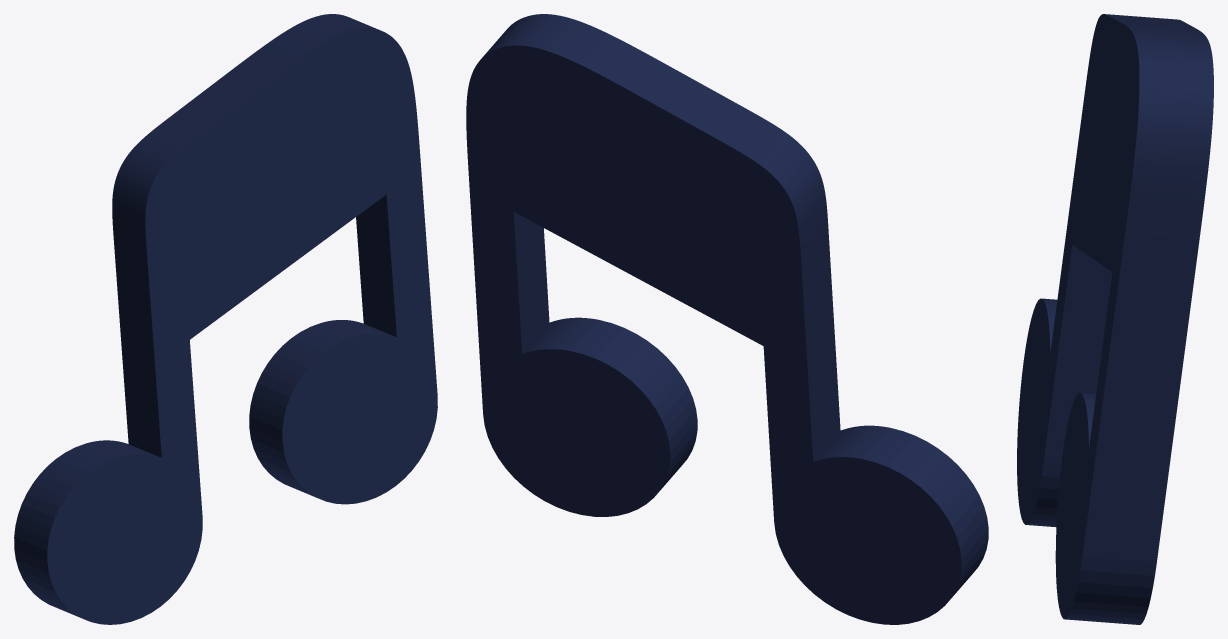
File: semicorchea.gltf
3 renders of one model, left to right at view 1: azimuth 30°, elevation 25°; view 2: azimuth 150°, elevation 25°; view 3: azimuth 270°, elevation 25°, orthographic. The views are drawn at different scales.
Parts seen in each view (by area): view 1: Curve; view 2: Curve; view 3: Curve.
Part boxes in pixels (box(x1,y1,x2,y2)): Curve: box(14, 14, 437, 624); Curve: box(466, 14, 988, 624); Curve: box(1017, 14, 1213, 624).
Bounding box in the file's own units: 1.28 × 1.46 × 0.4071.
